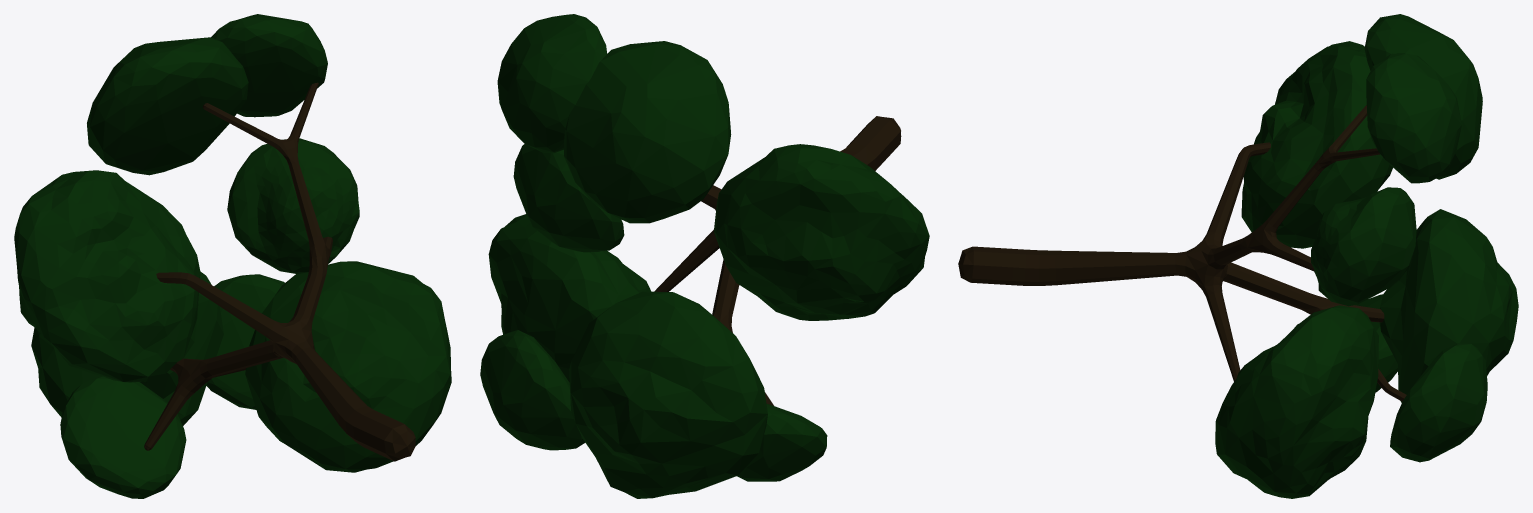
File: tree.obj
3 renders of one model, left to right at view 1: azimuth 30°, elevation 25°; view 2: azimuth 150°, elevation 25°; view 3: azimuth 270°, elevation 25°, orthographic. The views are drawn at different scales.
Parts seen in each view (by area): view 1: Object_4, Object_5; view 2: Object_4, Object_5; view 3: Object_4, Object_5.
Boxes of the visible parts, x1,y1,x2,y2 form: Object_4: [14, 14, 451, 498]; Object_5: [144, 82, 415, 461]; Object_4: [480, 14, 929, 498]; Object_5: [654, 116, 901, 405]; Object_4: [1215, 14, 1518, 498]; Object_5: [958, 105, 1406, 401].
Size of the model in its own units: 6.44 by 6.21 by 7.71.
